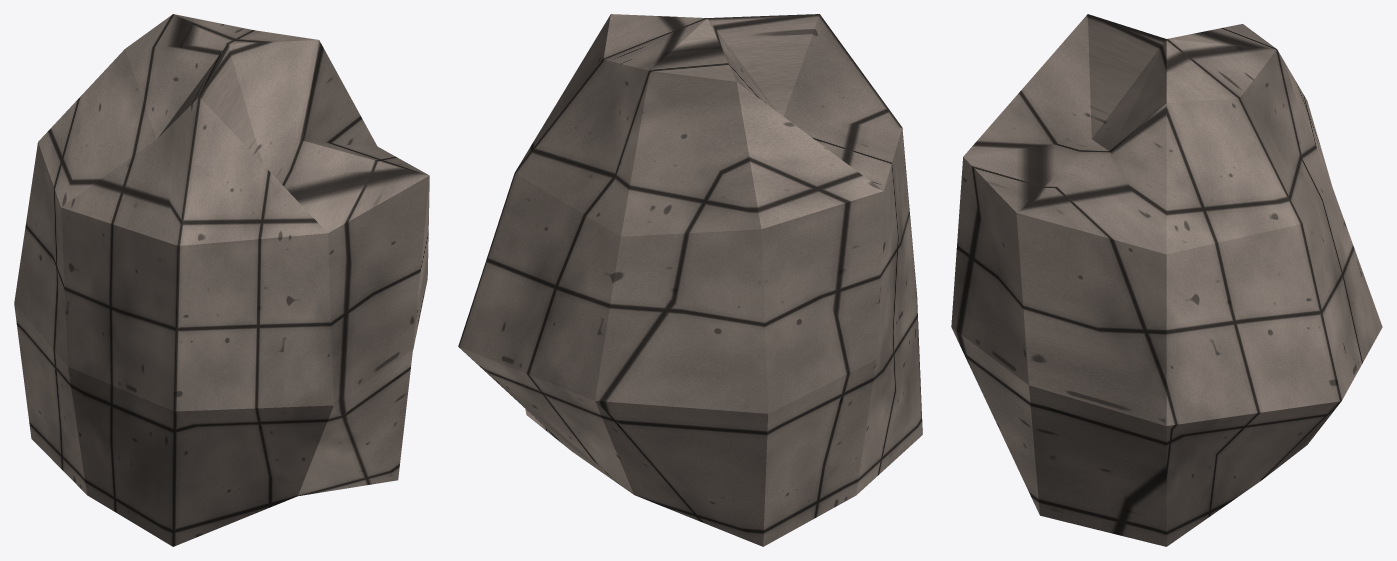
The model's file is rock_tall.glb.
3 renders of one model, left to right at view 1: azimuth 30°, elevation 25°; view 2: azimuth 150°, elevation 25°; view 3: azimuth 270°, elevation 25°, orthographic. The views are drawn at different scales.
Visible parts, largest first — view 1: rock_tall; view 2: rock_tall; view 3: rock_tall.
Part boxes in pixels (x1,y1,x2,y2): rock_tall: [14, 14, 429, 546]; rock_tall: [458, 14, 922, 546]; rock_tall: [951, 14, 1382, 546].
Size of the model in its own units: 1.95 by 2.11 by 1.95.
Materials: 1 (1 with a texture image).
